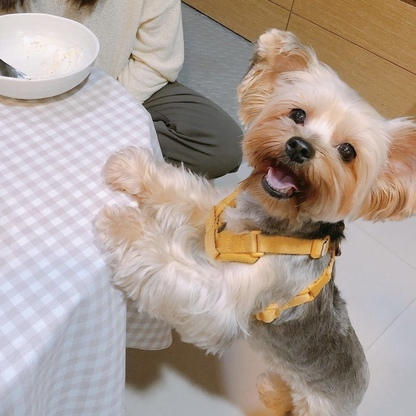yokshine: (97, 26, 416, 415)
